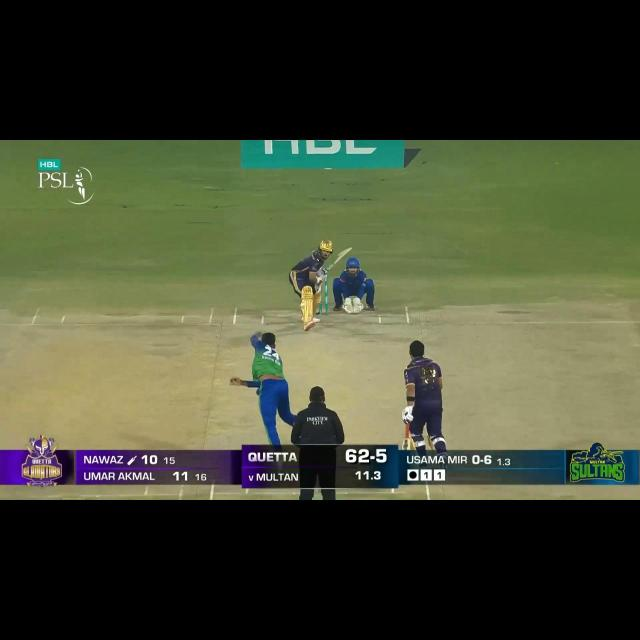bat: (323, 244, 353, 276), (401, 439, 413, 450)
toe: (343, 245, 353, 255)
